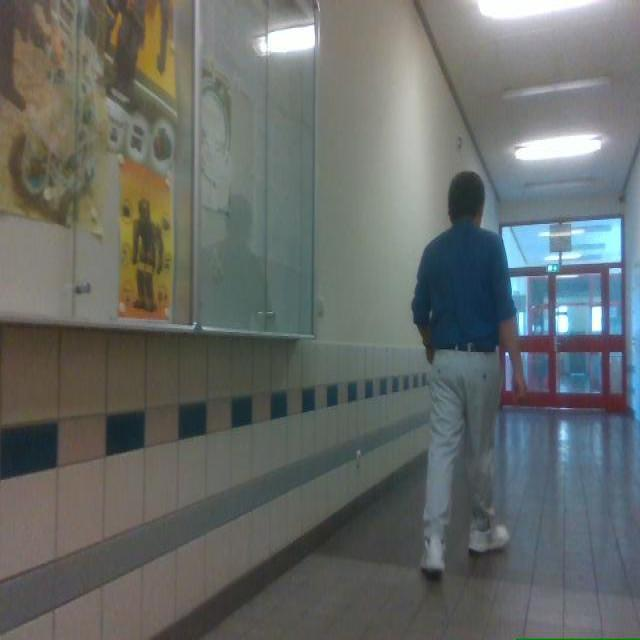humans: (411, 171, 526, 577)
